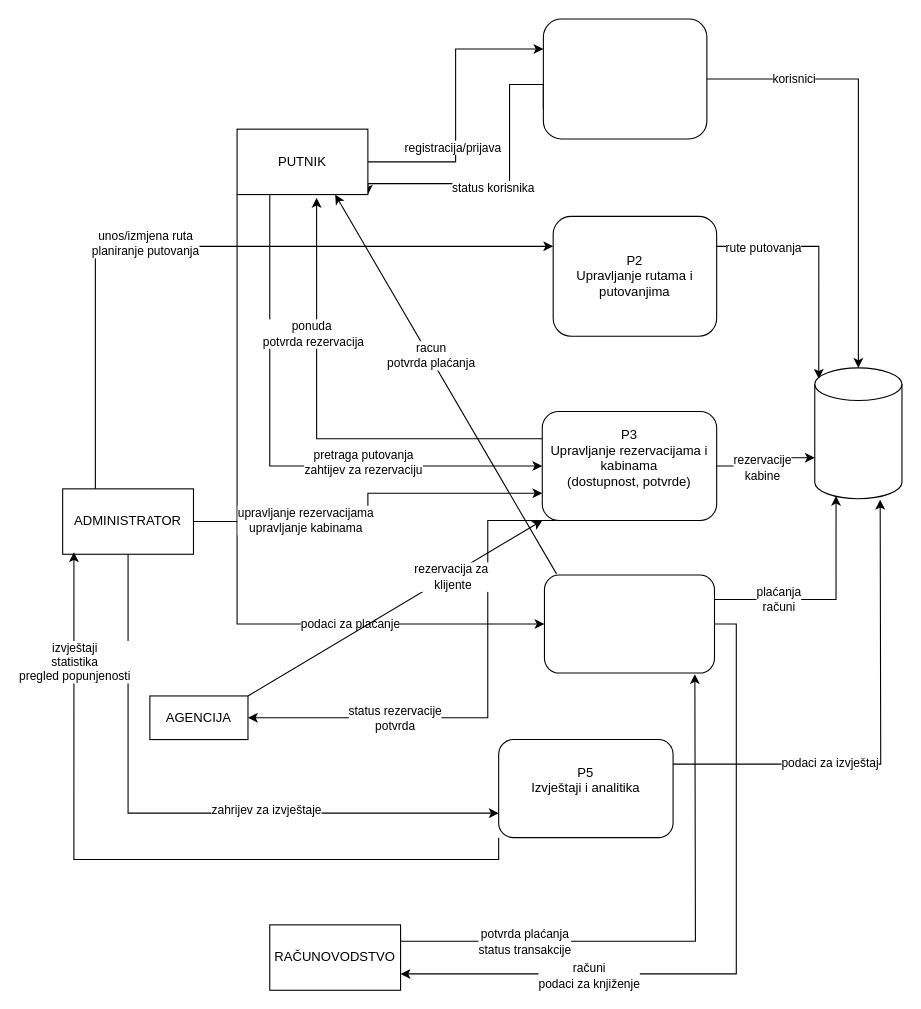
This 921x1009 diagram has some shape labels left out. Here are the shapes that lost their labels. From the top down, the centre of each, then its label:
the point at 624,78: P1 Upravljanje korisnicima (registracija, prijava, uloge)
the point at 858,433: BAZA PODATAKA
the point at 628,623: P4 Plaćanja i računi (transakcije)
